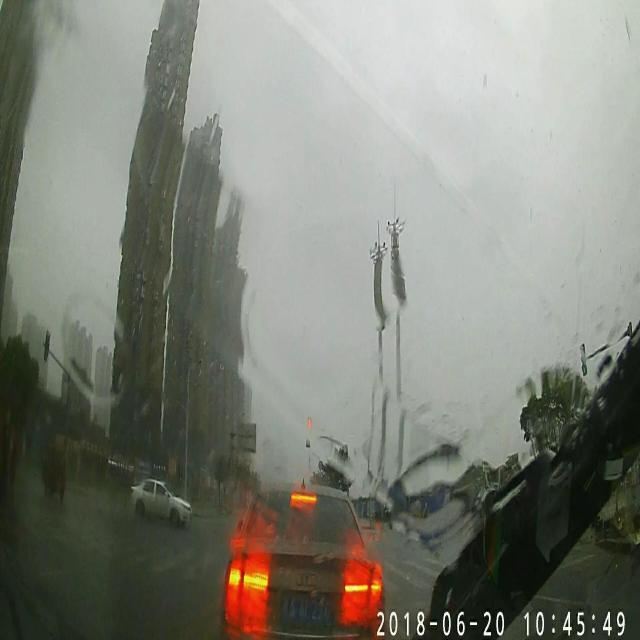car: (221, 482, 384, 638), (128, 476, 192, 528)
